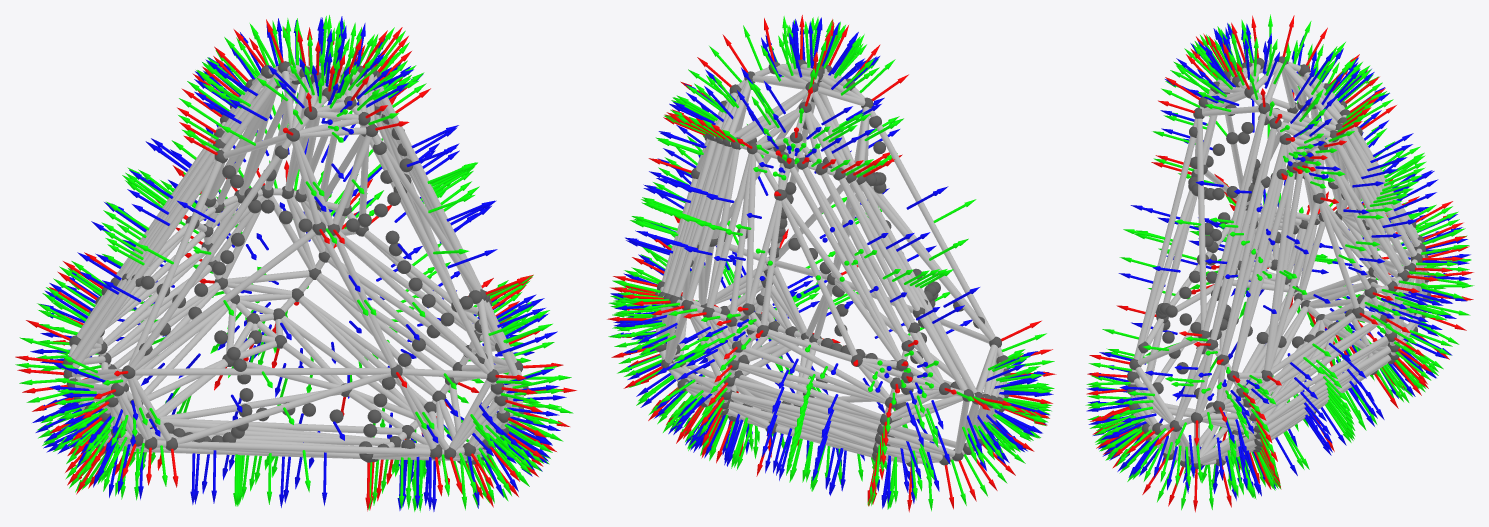
Rendered from flowrep_trebol.gltf.
3 views of the same model, side by side, from view 1: azimuth 30°, elevation 25°; view 2: azimuth 150°, elevation 25°; view 3: azimuth 270°, elevation 25° (orthographic). The views are drawn at different scales.
Bounding box in the file's own units: 0.7911 × 0.7675 × 0.6244.
